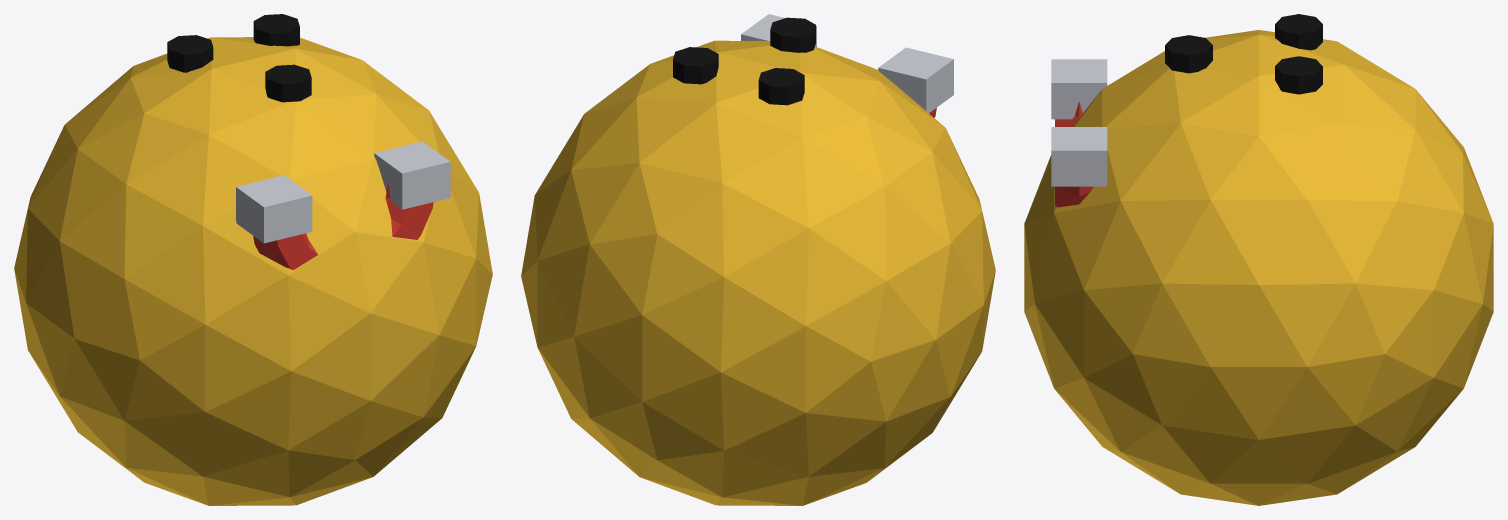
The model's file is bowl_magnet_ball.glb.
3 renders of one model, left to right at view 1: azimuth 30°, elevation 25°; view 2: azimuth 150°, elevation 25°; view 3: azimuth 270°, elevation 25°, orthographic.
Parts seen in each view (by area): view 1: ball_ball_gold, magnet_magnet_steel, hole_ball_hole, magnet_magnet_red; view 2: ball_ball_gold, hole_ball_hole, magnet_magnet_steel; view 3: ball_ball_gold, magnet_magnet_steel, hole_ball_hole, magnet_magnet_red.
Part boxes in pixels (<box>): ball_ball_gold: <box>14,37,492,505</box>; magnet_magnet_steel: <box>236,141,450,243</box>; hole_ball_hole: <box>167,14,311,102</box>; magnet_magnet_red: <box>253,182,433,270</box>; ball_ball_gold: <box>521,40,995,505</box>; hole_ball_hole: <box>673,17,815,105</box>; magnet_magnet_steel: <box>741,14,953,112</box>; ball_ball_gold: <box>1024,30,1493,505</box>; magnet_magnet_steel: <box>1051,59,1107,186</box>; hole_ball_hole: <box>1165,14,1322,94</box>; magnet_magnet_red: <box>1055,101,1093,207</box>.
Size of the model in its own units: 0.2351 by 0.2405 by 0.2351.
